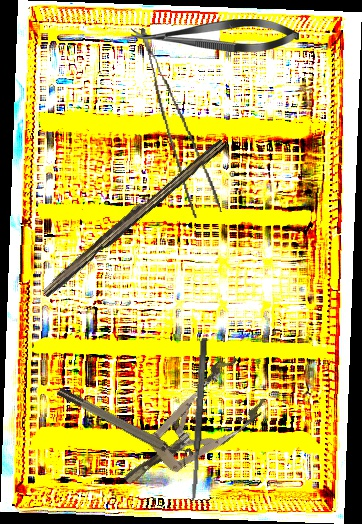Fixation Ring: (55, 379, 195, 469)
Micro Scissor: (131, 19, 299, 52)
Scalpel Handle: (38, 133, 228, 301)
Spatula Surgical: (188, 337, 209, 502)
Speculum: (104, 351, 274, 507)
Tissue Forceps: (140, 20, 222, 221)
